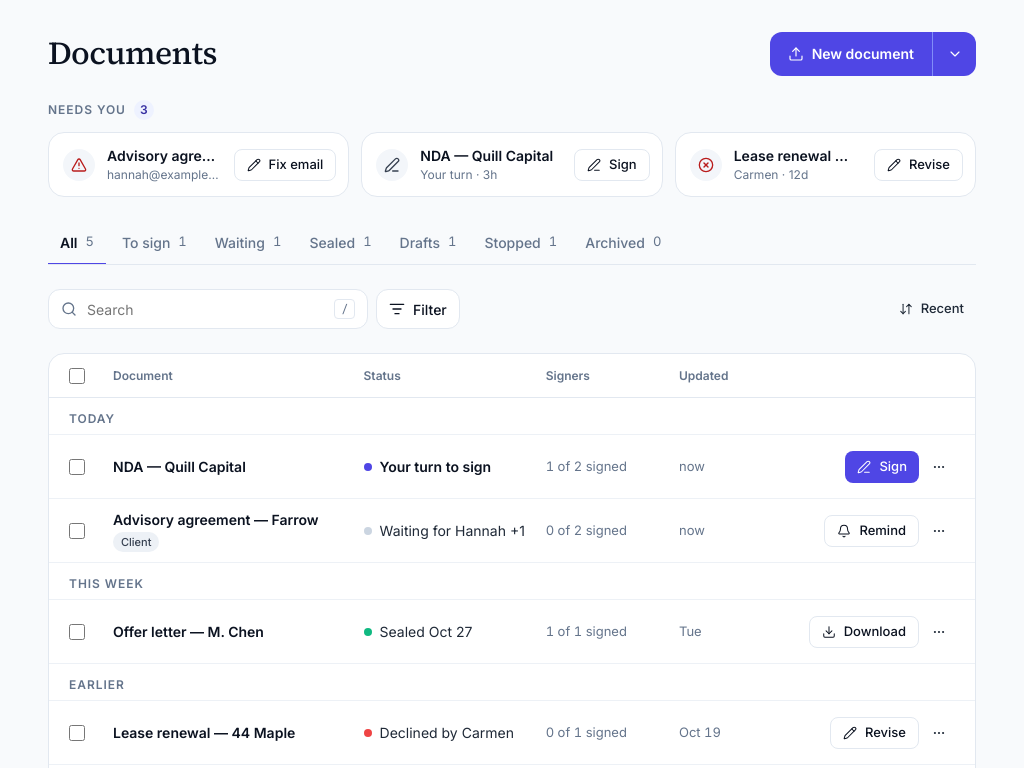
DashboardPage delivery problems › fixes a bounced address inline and resends
The width and height of the screenshot is (1024, 768).
Check: the text "hannah@example.com · 5d" is shown, box [107,166,222,184]
Click the button "Fix email" at (285, 164), box [234,148,336,180]
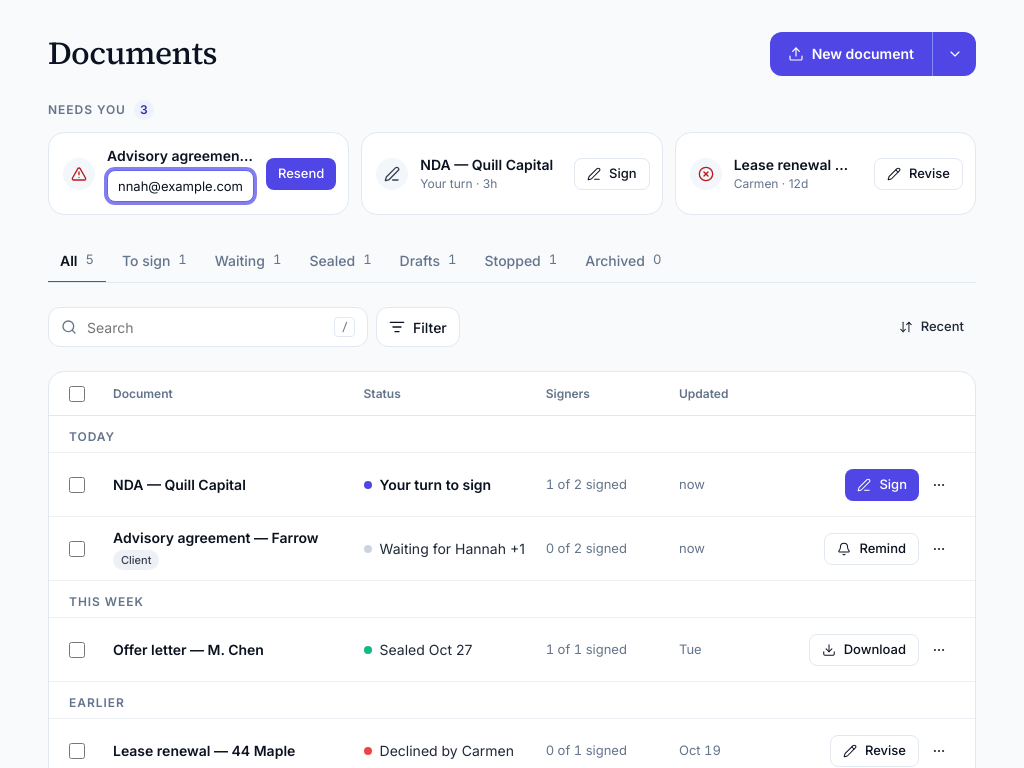
Replace the text in the field named "Email address for Hannah Wills" with "hannah@farow.co" at (180, 186), box [107,170,254,202]
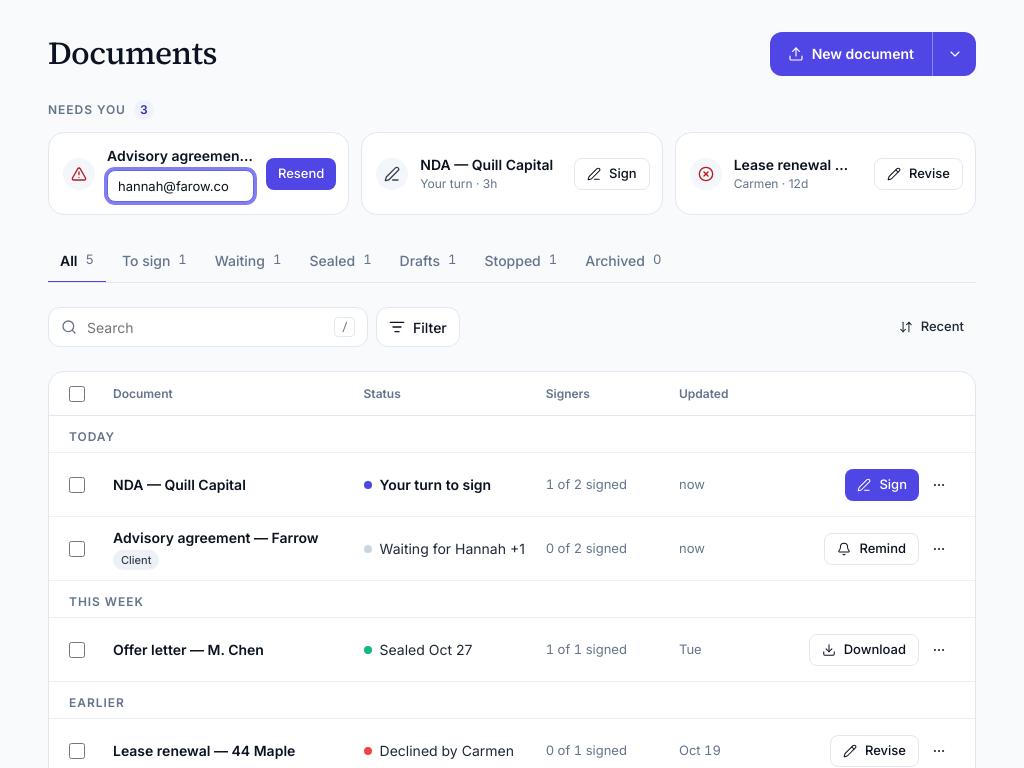
Click the button "Resend" at (301, 174), box [266,158,336,190]
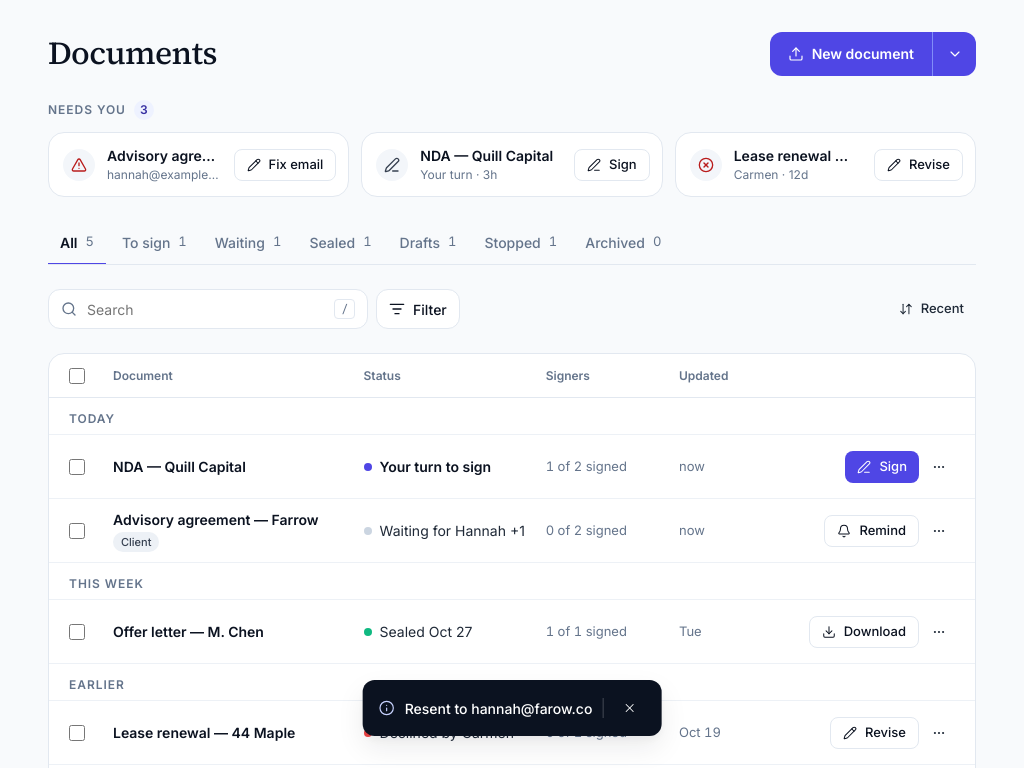
Check: the text "Resent to hannah@farow.co" is shown, box [405,698,592,718]
